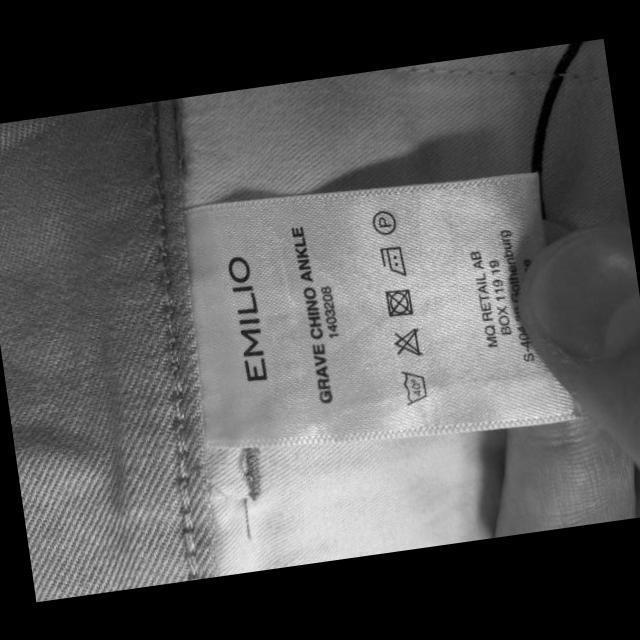40C: (398, 366, 431, 409)
DN_bleach: (390, 323, 426, 361)
DN_tumble_dry: (382, 285, 417, 321)
iron_medium: (374, 242, 409, 282)
normal_dry_clean_solvents: (368, 206, 402, 238)
